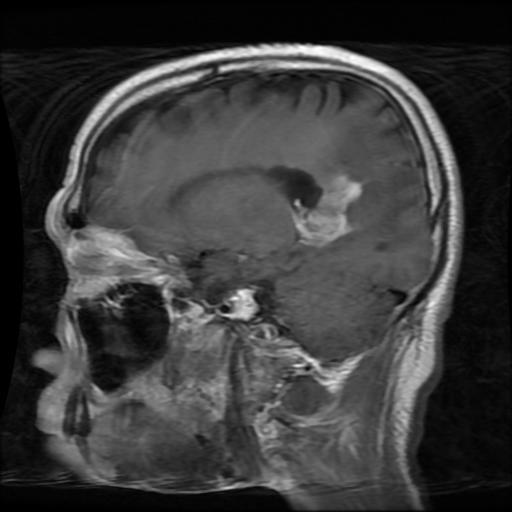Gliomia_tumour: (292, 171, 361, 247)
